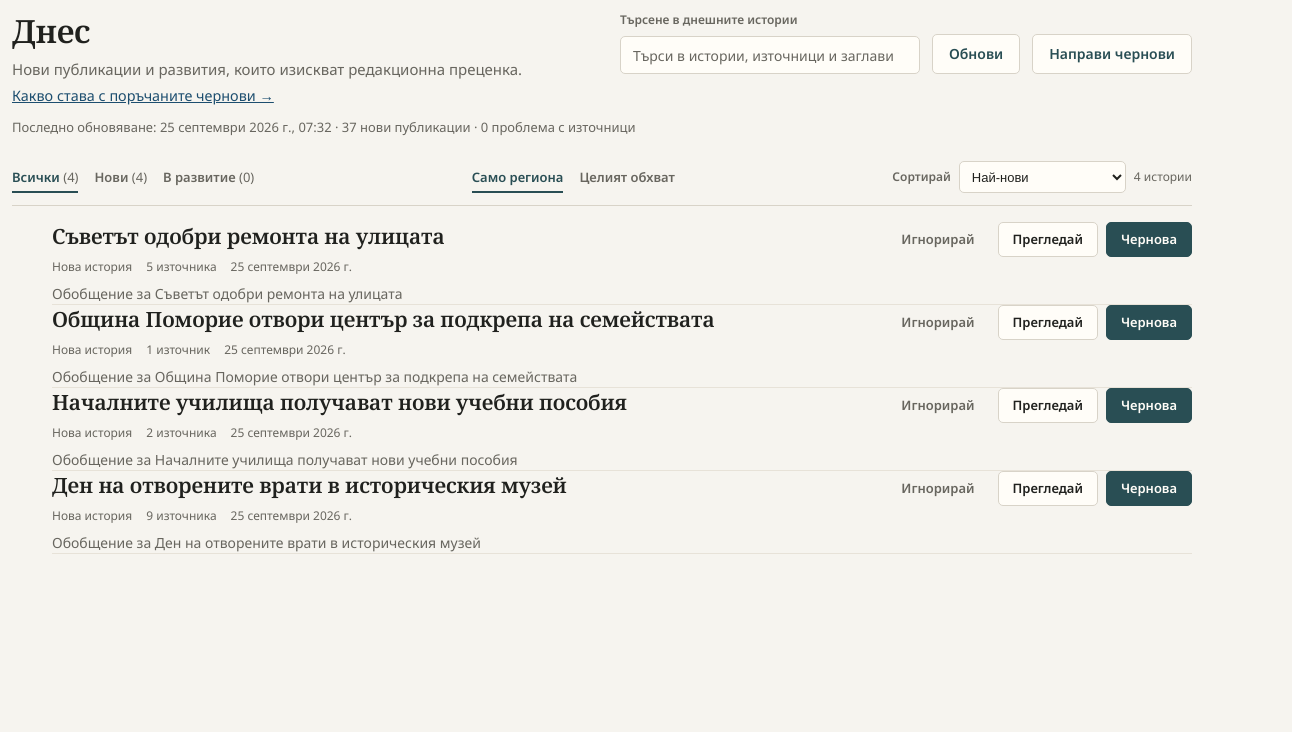
Scenario: V1.2-G1 — evidence warning semantics › renders the backend's own blocker text verbatim
The image size is (1292, 732).
Click the 1st button "Чернова" at (1149,240), box top-left (1106, 222), bottom-right (1192, 257)
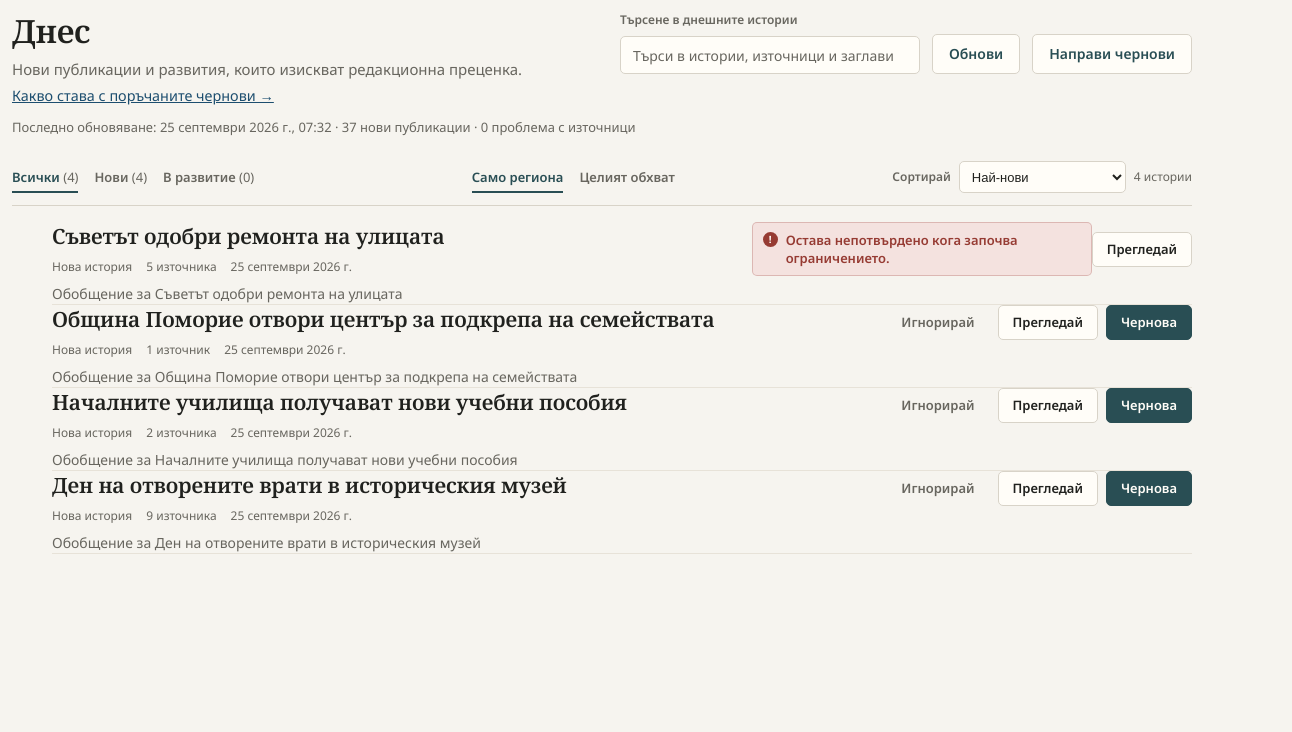
Expected: the link "Прегледай" in the row of "5 източника" is shown, top-left (1092, 232), bottom-right (1192, 267)
Result: the message shows "Остава непотвърдено кога започва ограничението." at top-left (786, 231), bottom-right (1018, 267)
